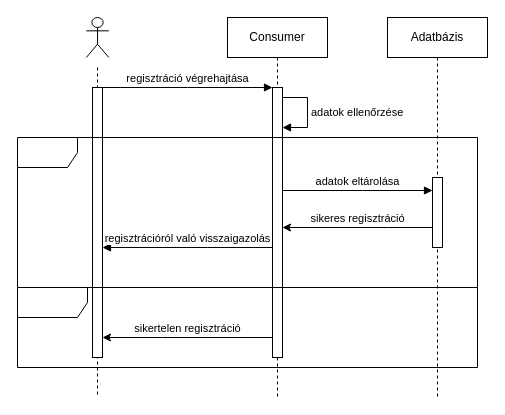
Image size: 505x415. Some labels were removed from this diagram. Each missing label, with the centre of its shape:
érvényes adatok: point 247,212
érvénytelen adatok: point 247,327
